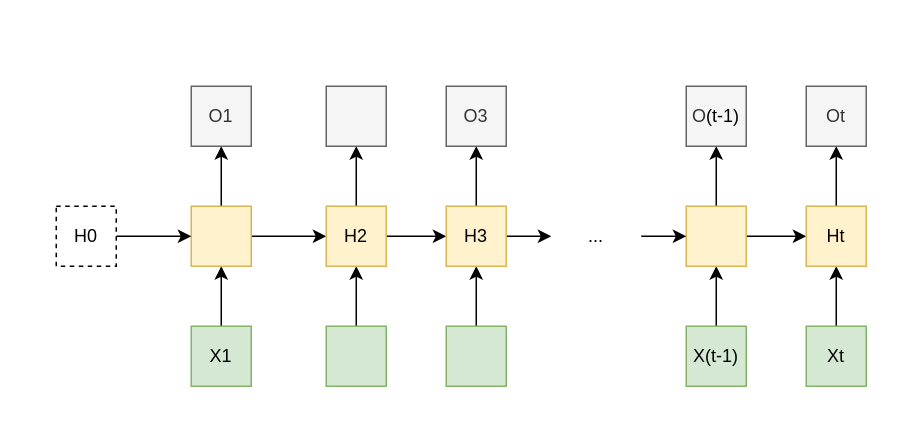
The diagram is 921 pixels wide and 441 high, and some of its shapes have lost their labels. Here are the shapes that lost their labels. From the top down, the centre of each, then its label:
point 355,115: O2
point 220,235: H1
point 715,235: H(t-1)
point 355,355: X2
point 475,355: X3
